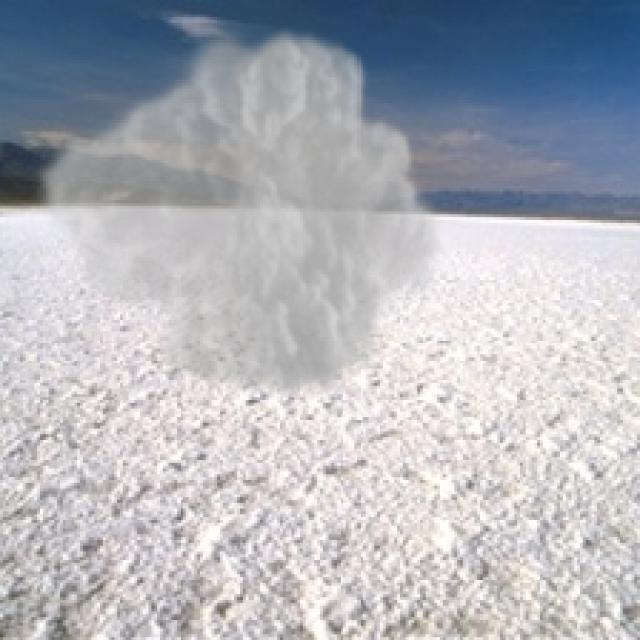smoke: (31, 20, 446, 406)
